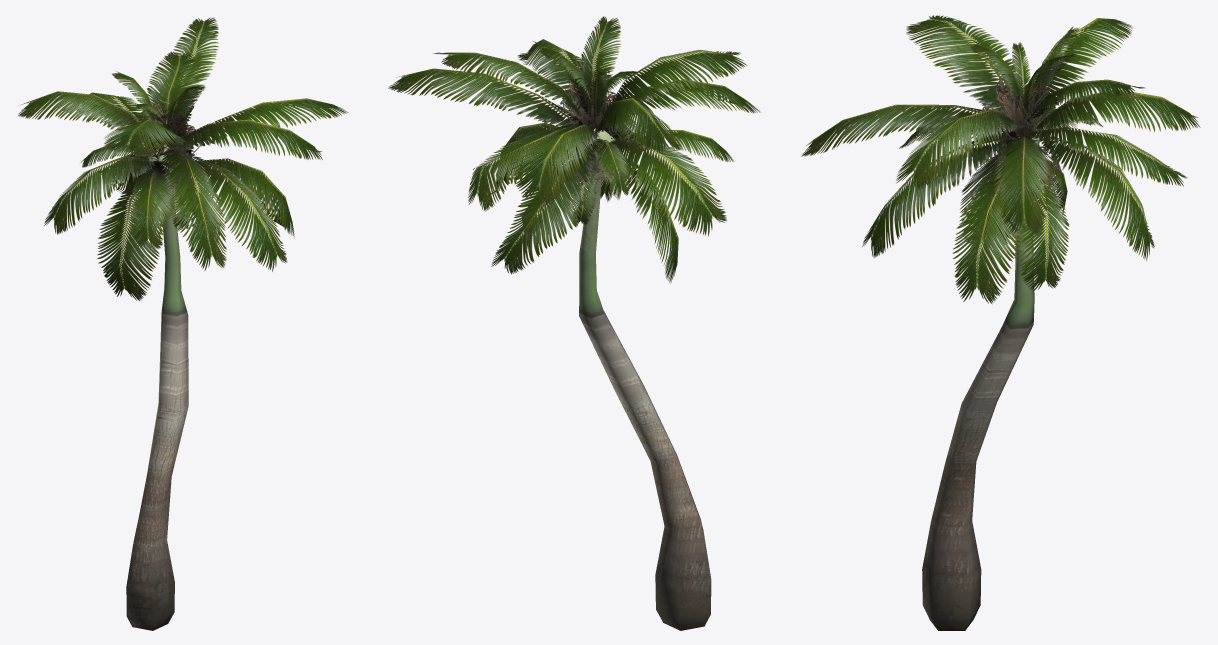
File: Palm_Tropical_01.glb
3 renders of one model, left to right at view 1: azimuth 30°, elevation 25°; view 2: azimuth 150°, elevation 25°; view 3: azimuth 270°, elevation 25°, orthographic. The views are drawn at different scales.
Parts seen in each view (by area): view 1: Palm1_VAR1; view 2: Palm1_VAR1; view 3: Palm1_VAR1.
Part boxes in pixels (bbox=[...]): Palm1_VAR1: bbox=[18, 17, 348, 630]; Palm1_VAR1: bbox=[388, 16, 761, 630]; Palm1_VAR1: bbox=[801, 15, 1200, 630].
Size of the model in its own units: 3.18 by 5.28 by 3.16.
1 material, 1 textured.
